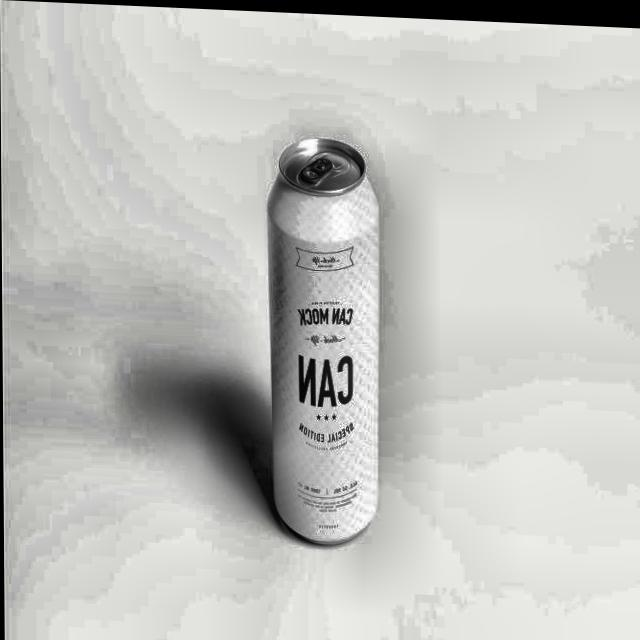can: (252, 128, 389, 553)
